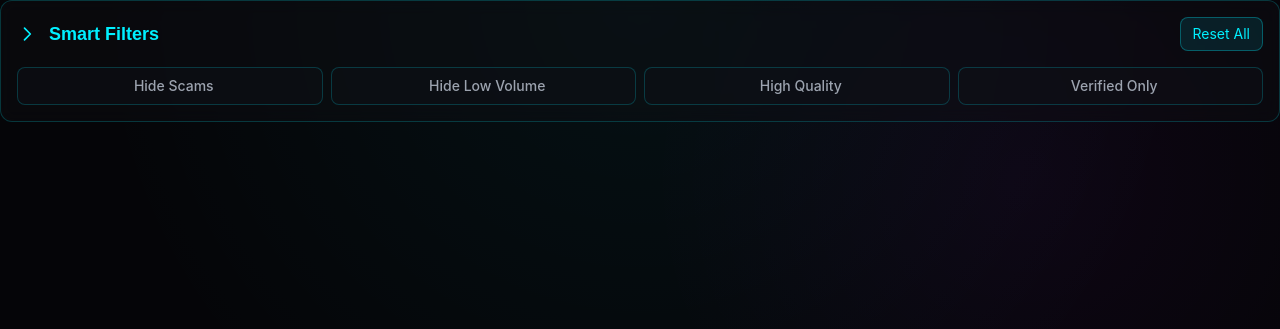
Test case: SmartFilters › shows active filter count badge
The image size is (1280, 329).
// Click Hide Scams toggle
What coordinates should you click on to do the following:
click the button "Hide Scams"
I would click on:
 (170, 86)
Its box is [17,67,322,105].
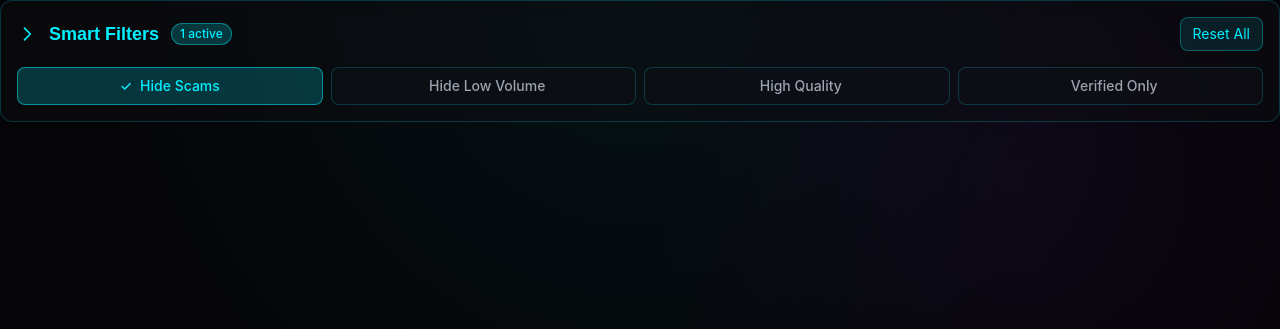
Check: the text "1 active" is shown, box [171,23,232,45]
